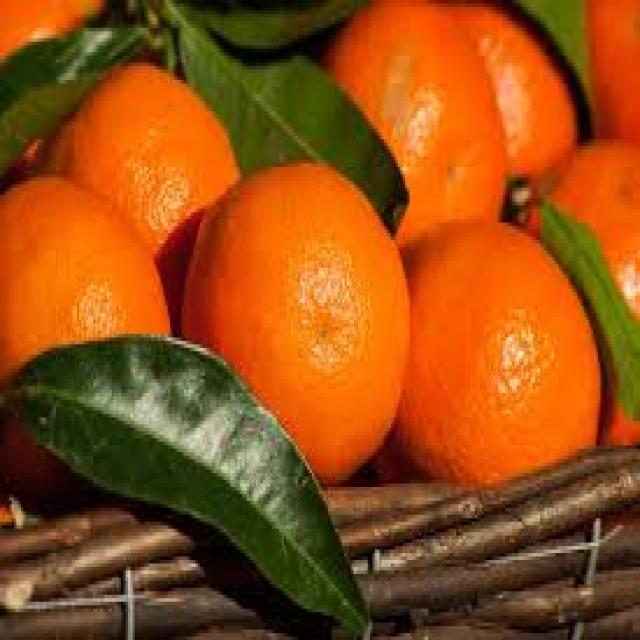orange: (182, 162, 404, 483), (393, 220, 601, 486), (0, 174, 165, 480), (320, 1, 507, 245), (54, 63, 236, 259)
